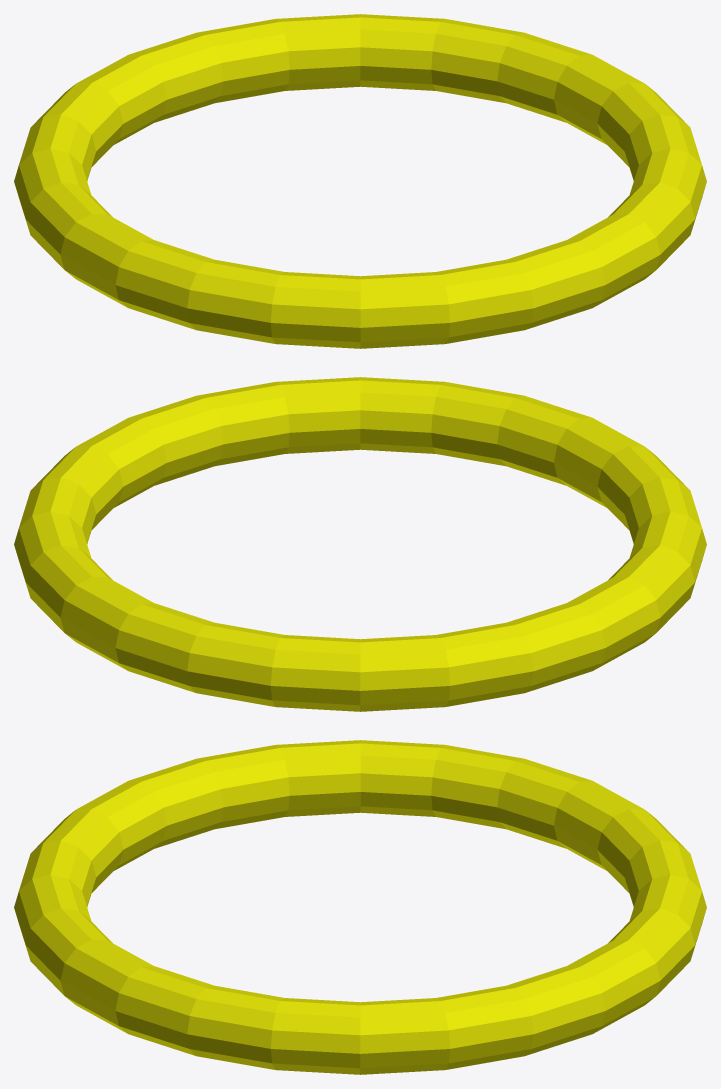
Rendered from equipment_0017_speedrings.glb.
3 views of the same model, one above another, from view 1: azimuth 30°, elevation 25°; view 2: azimuth 150°, elevation 25°; view 3: azimuth 270°, elevation 25° (orthographic).
Parts seen in each view (by area): view 1: speedring; view 2: speedring; view 3: speedring.
Part boxes in pixels (x1=…): speedring: x1=14, y1=14, x2=706, y2=348; speedring: x1=14, y1=377, x2=706, y2=711; speedring: x1=14, y1=740, x2=706, y2=1074.
Bounding box in the file's own units: 38 × 4 × 38.
